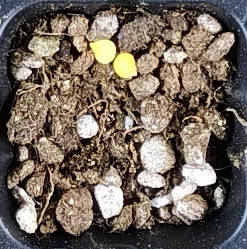chilli seed: (89, 39, 115, 64), (114, 53, 136, 78)
